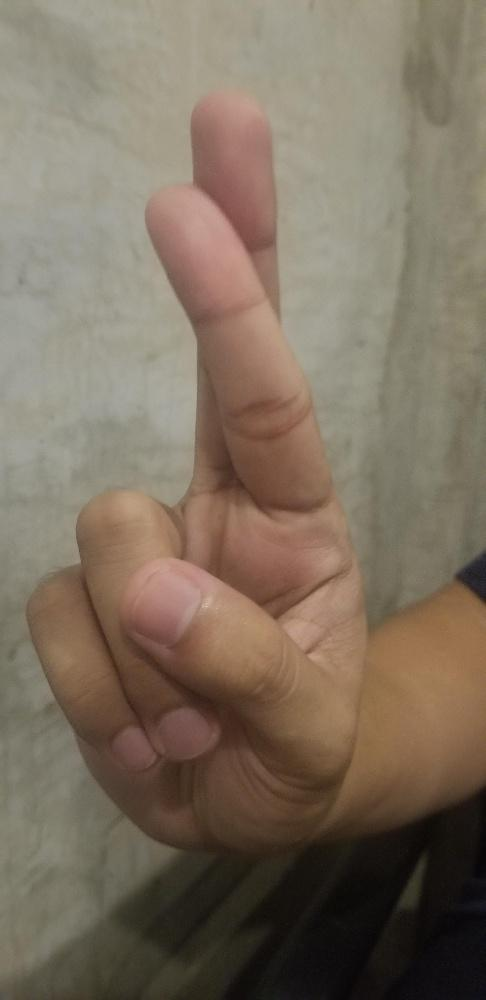r: (22, 84, 372, 854)
